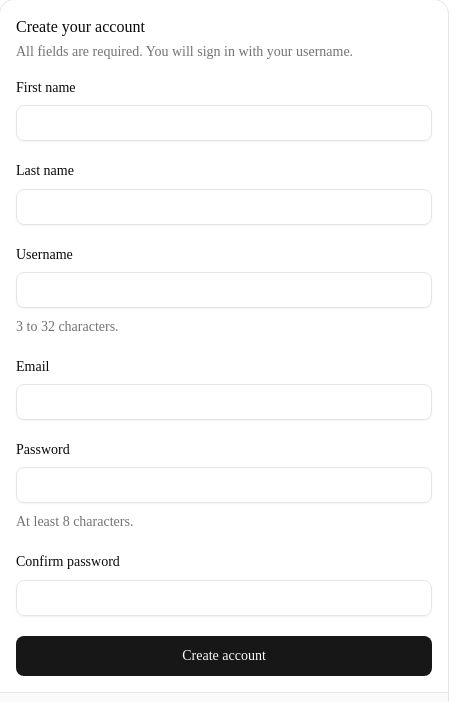
it: RegisterForm › applies the same username, email and password rules as the API
Type "Ada" into the field labelled "First name" at [224, 123], box [16,105,432,141]
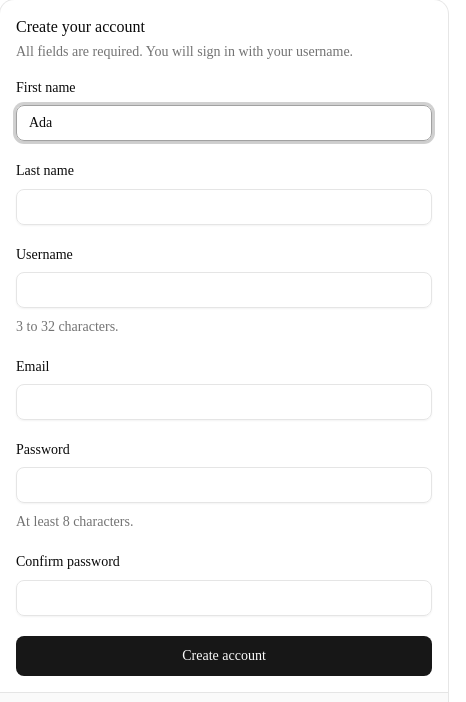
Type "Lovelace" into the field labelled "Last name" at [224, 206], box [16,188,432,224]
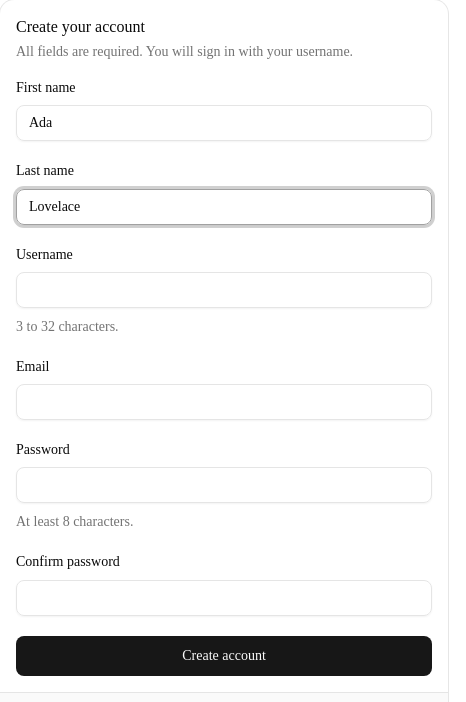
Type "ab" into the field labelled "Username" at [224, 290], box [16,272,432,308]
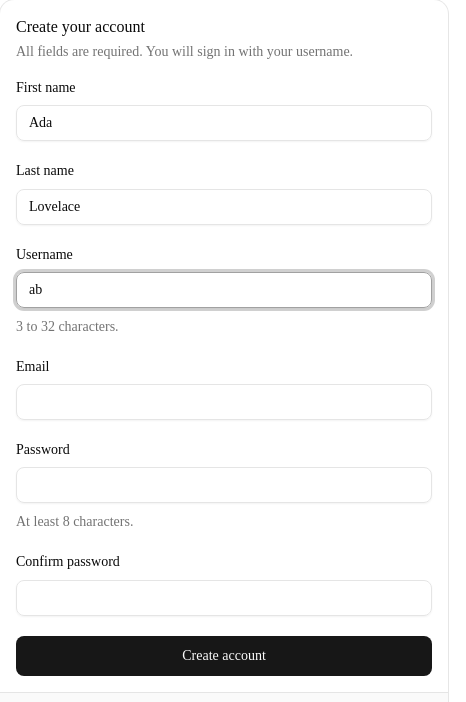
Type "not-an-email" into the field labelled "Email" at [224, 402], box [16,384,432,420]
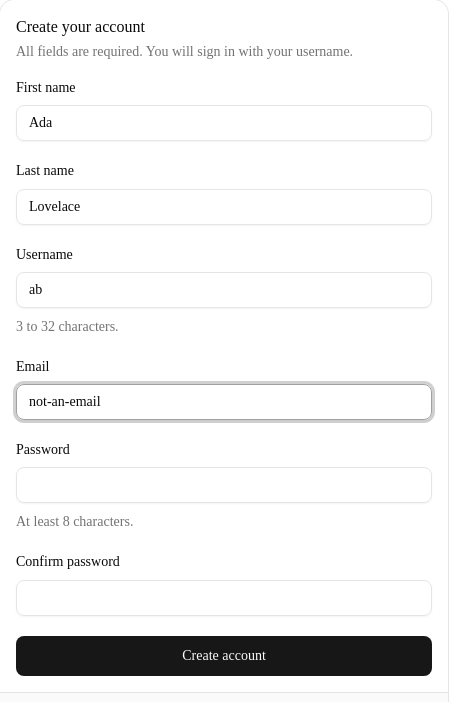
Type "short" into the password field labelled "Password" at [224, 485], box [16,467,432,503]
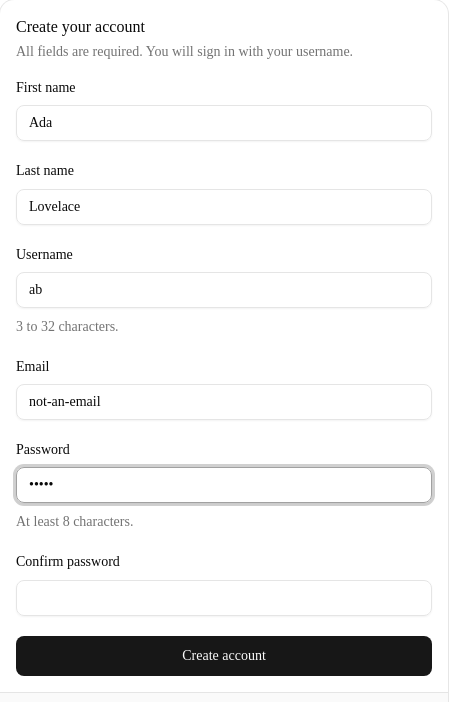
Click the button "Create account" at [224, 656], box [16,636,432,676]
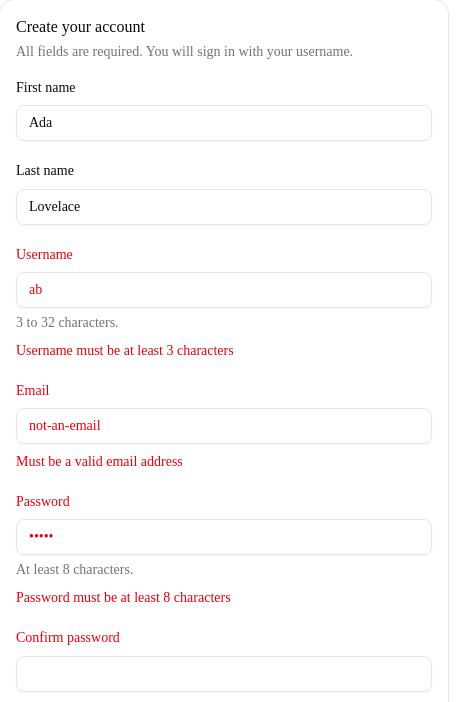
Expected: the text "Username must be at least 3 characters" is shown, [16,343,234,358]
Expected: the text "Must be a valid email address" is shown, [16,454,183,469]
Expected: the text "Password must be at least 8 characters" is shown, [16,590,231,605]
